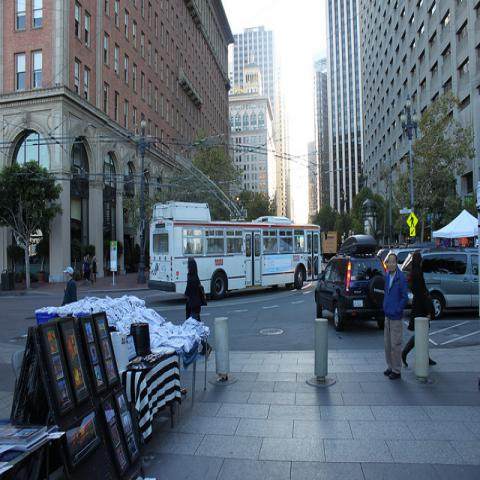bus: (149, 200, 322, 298)
car: (314, 252, 387, 330), (423, 253, 479, 318), (395, 248, 422, 270), (384, 248, 399, 275), (407, 240, 438, 250), (376, 248, 390, 261)
